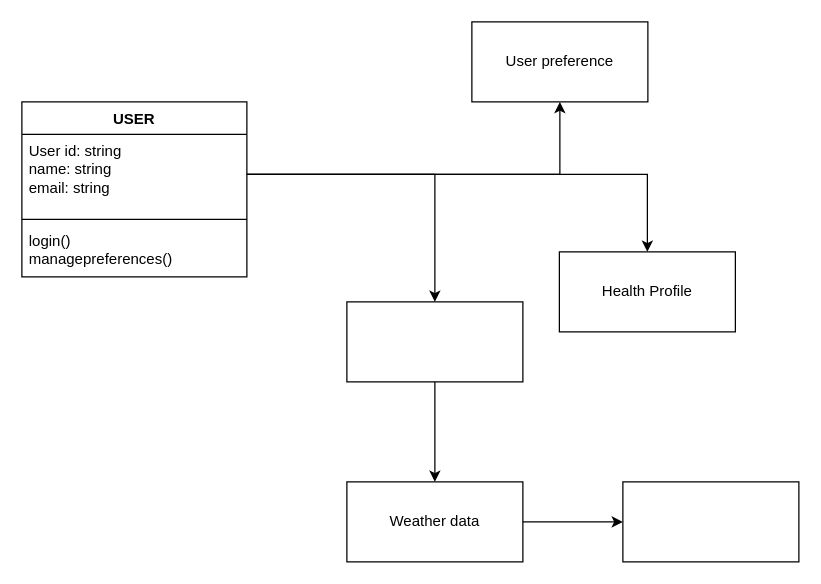
Image size: 821x584. Some labels were removed from this diagram. Each missing label, with the centre of its shape:
Location: the point at 434,341
Weather Forecast: the point at 710,521
